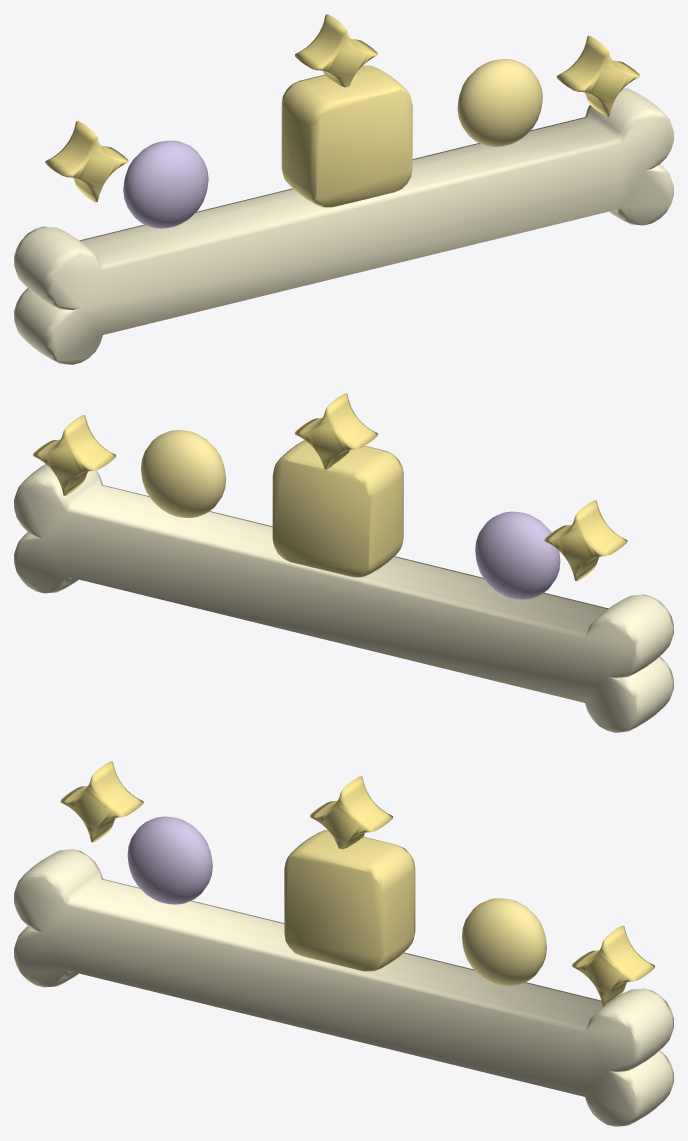
File: decor_5_star.glb
3 views of the same model, one above another, from view 1: azimuth 30°, elevation 25°; view 2: azimuth 150°, elevation 25°; view 3: azimuth 330°, elevation 25° (orthographic).
Parts seen in each view (by area): view 1: decor_5_star; view 2: decor_5_star; view 3: decor_5_star.
Boxes of the visible parts, <box> form: decor_5_star: <box>14,14,673,364</box>; decor_5_star: <box>14,393,673,732</box>; decor_5_star: <box>14,761,673,1126</box>.
Size of the model in its own units: 14.33 by 5.64 by 1.45.
